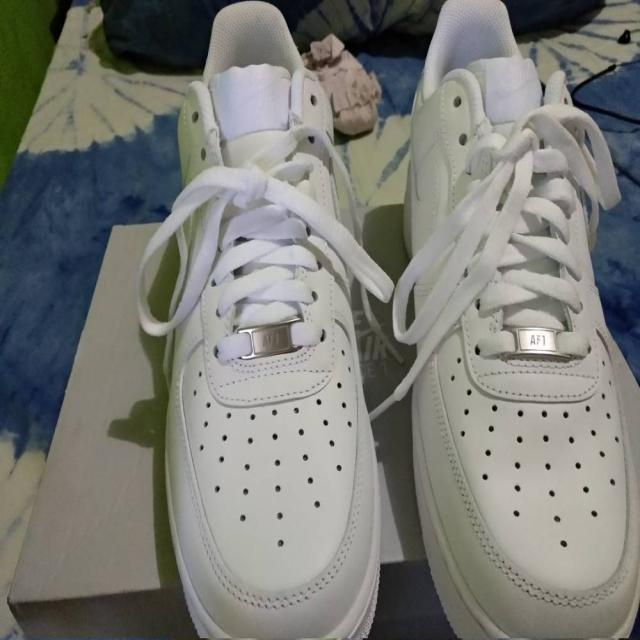nike original air force: (143, 7, 388, 640), (398, 0, 640, 640)
